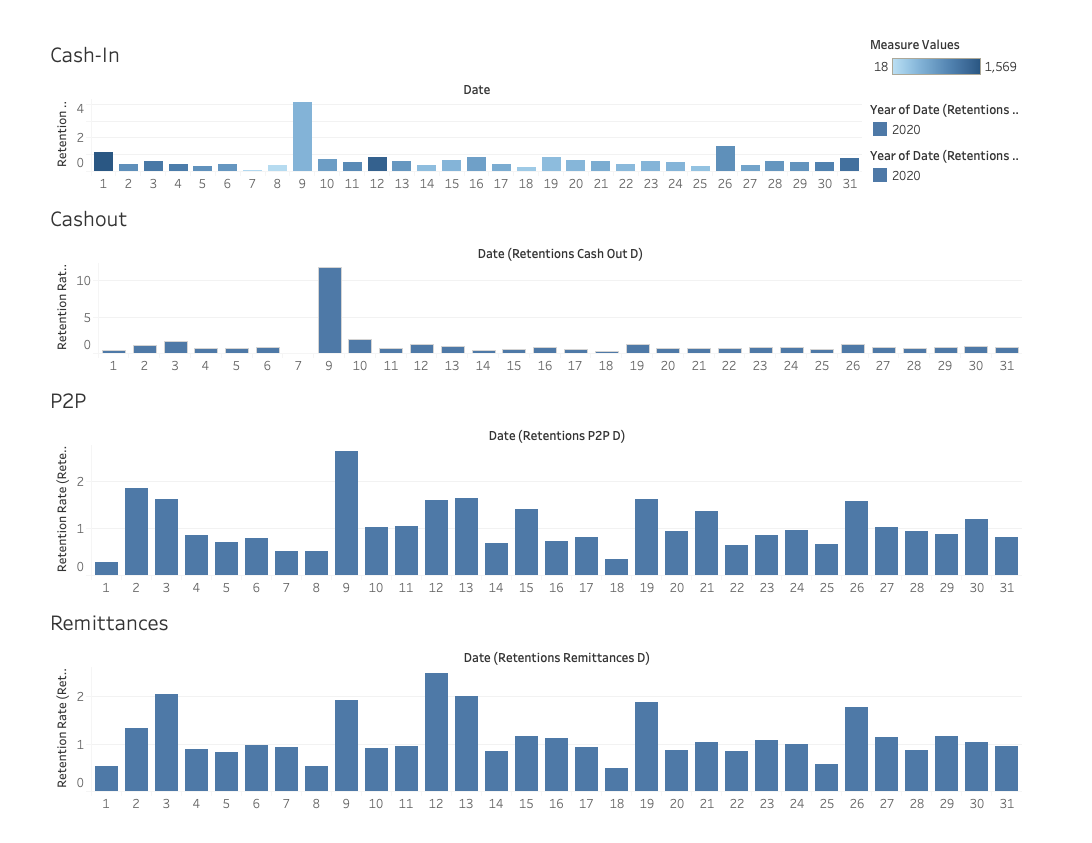

What the dashboard file says about the page in this screenshot:
{"tool":"tableau","page":{"name":"Retentions","canvas":[1000,800],"ordinal":0},"visuals":[{"type":"worksheet","box":[0,0,1000,800]},{"type":"worksheet","param":"horz","box":[8,8,984,164]},{"type":"worksheet","box":[8,8,824,164]},{"type":"worksheet","title":"Cash-In","mark":"Bar","rows":["retention_rate"],"cols":["date"],"box":[8,8,824,164]},{"type":"worksheet","param":"vert","box":[832,8,160,164]},{"type":"worksheet","title":"Cash-In","mark":"Bar","rows":["retention_rate"],"cols":["date"],"param":"[federated.0whcnl00u85ndz18qw80o0pg4coa].[Multiple Values]","box":[832,8,160,65]},{"type":"worksheet","title":"P2P","mark":"Bar","rows":["retention_rate (retentions_p2p_d)"],"cols":["date (retentions_p2p_d)"],"param":"[federated.0whcnl00u85ndz18qw80o0pg4coa].[yr:date (retentions_p2p_d):ok]","box":[832,73,160,46]},{"type":"worksheet","title":"Remittances","mark":"Bar","rows":["retention_rate (retentions_remittances_d)"],"cols":["date (retentions_remittances_d)"],"param":"[federated.0whcnl00u85ndz18qw80o0pg4coa].[yr:date (retentions_remittances_d):ok]","box":[832,119,160,46]},{"type":"worksheet","title":"Cashout","mark":"Bar","rows":["retention_rate (retentions_cash_out_d)"],"cols":["date (retentions_cash_out_d)"],"box":[8,172,984,182]},{"type":"worksheet","title":"P2P","mark":"Bar","rows":["retention_rate (retentions_p2p_d)"],"cols":["date (retentions_p2p_d)"],"box":[8,354,984,222]},{"type":"worksheet","title":"Remittances","mark":"Bar","rows":["retention_rate (retentions_remittances_d)"],"cols":["date (retentions_remittances_d)"],"box":[8,576,984,216]}]}

Visuals, with their boxes on the page's 1000x800 design canvas (x1, y1, x2, y2). These are canvas units, not pixel positions in the 1092x843 screenshot, which may show the page scaled, cropped or inside an application window:
worksheet: {"left": 0, "top": 0, "right": 1000, "bottom": 800}
worksheet: {"left": 8, "top": 8, "right": 992, "bottom": 172}
worksheet: {"left": 8, "top": 8, "right": 832, "bottom": 172}
"Cash-In" worksheet (Bar marks): {"left": 8, "top": 8, "right": 832, "bottom": 172}
worksheet: {"left": 832, "top": 8, "right": 992, "bottom": 172}
"Cash-In" worksheet (Bar marks): {"left": 832, "top": 8, "right": 992, "bottom": 73}
"P2P" worksheet (Bar marks): {"left": 832, "top": 73, "right": 992, "bottom": 119}
"Remittances" worksheet (Bar marks): {"left": 832, "top": 119, "right": 992, "bottom": 165}
"Cashout" worksheet (Bar marks): {"left": 8, "top": 172, "right": 992, "bottom": 354}
"P2P" worksheet (Bar marks): {"left": 8, "top": 354, "right": 992, "bottom": 576}
"Remittances" worksheet (Bar marks): {"left": 8, "top": 576, "right": 992, "bottom": 792}
